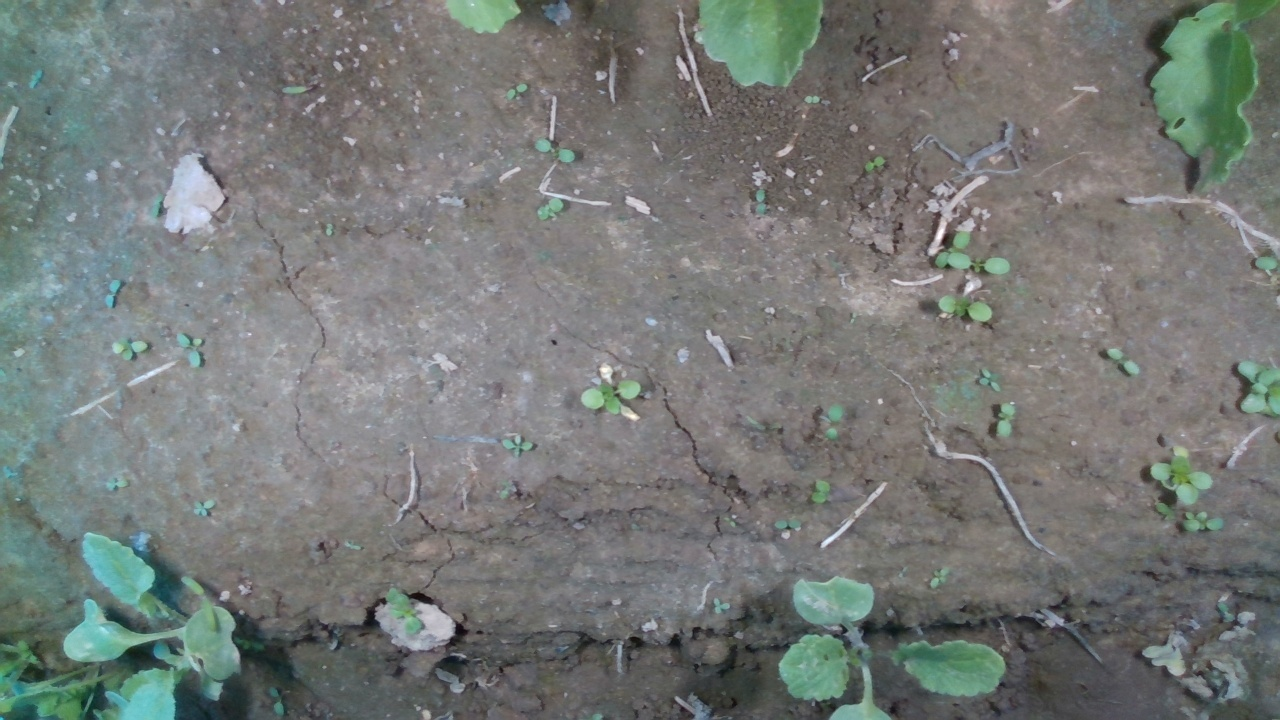weed: (581, 378, 641, 416), (936, 293, 993, 322), (533, 136, 576, 164), (108, 334, 151, 361), (1105, 346, 1143, 376), (175, 332, 204, 370), (817, 403, 843, 439), (500, 434, 536, 458), (995, 400, 1016, 441), (533, 197, 564, 220), (103, 278, 124, 310), (928, 563, 952, 589), (977, 365, 1000, 392), (811, 478, 830, 503), (504, 82, 529, 99), (755, 187, 768, 217), (192, 499, 216, 515), (106, 475, 129, 491), (770, 518, 802, 529), (864, 156, 887, 171), (711, 597, 730, 614)
